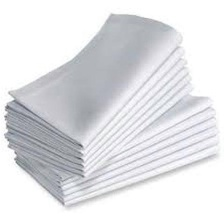tissue: (0, 10, 197, 181), (12, 92, 224, 209)
